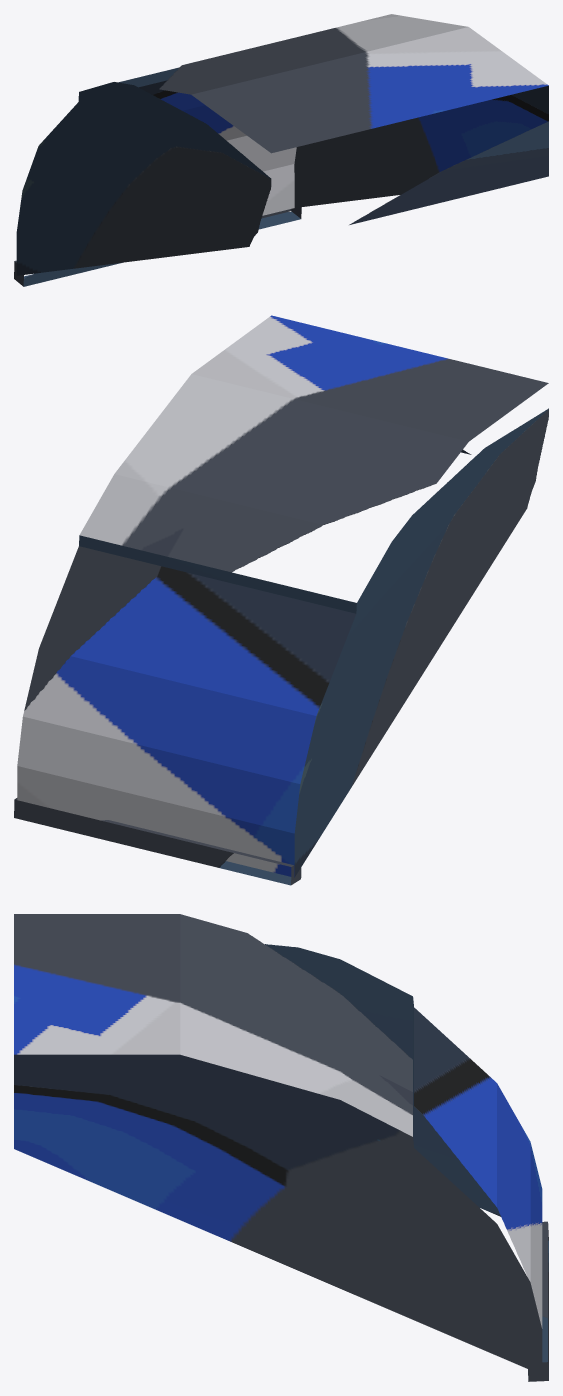
Rendered from df11g_carport_eh_ad.obj.
The picture shows the model from 3 angles, top to bottom: view 1: azimuth 30°, elevation 25°; view 2: azimuth 150°, elevation 25°; view 3: azimuth 270°, elevation 25°; orthographic projection. The views are drawn at different scales.
Parts seen in each view (by area): view 1: cube; view 2: cube; view 3: cube.
Part boxes in pixels (bbox=[...]): cube: bbox=[14, 14, 548, 286]; cube: bbox=[14, 315, 548, 885]; cube: bbox=[14, 914, 548, 1381].
Bounding box in the file's own units: 1 × 1.08 × 1.61.
